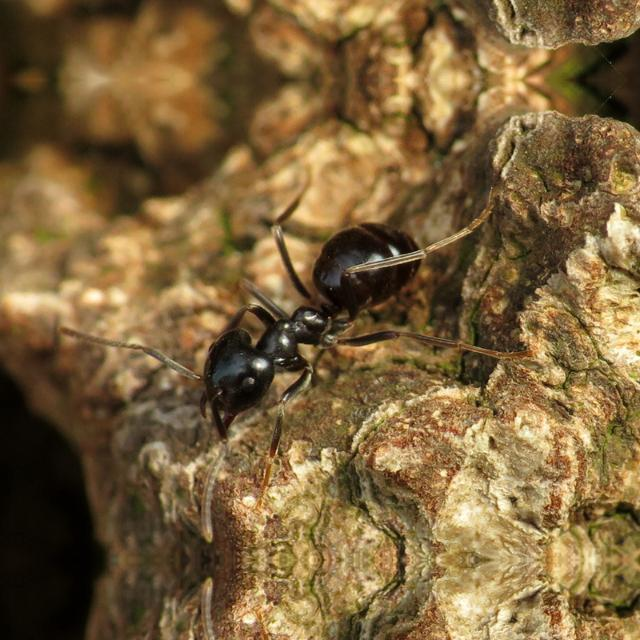Lasius: (168, 198, 426, 434)
